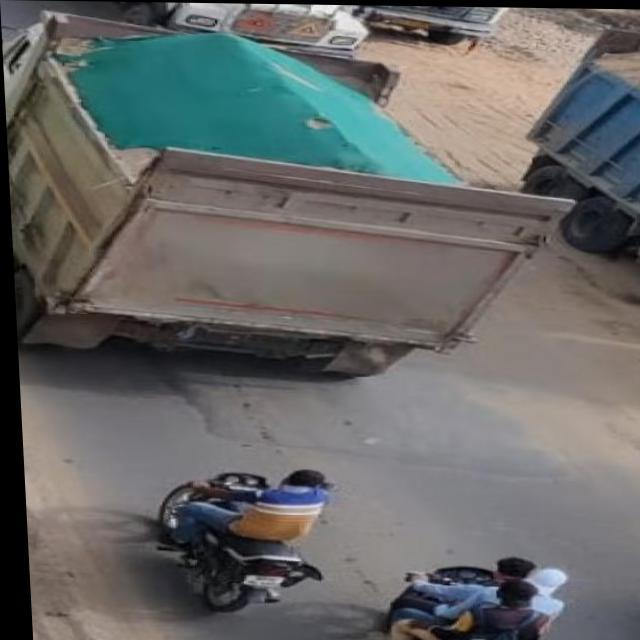covered: (0, 7, 487, 374)
uncovered: (534, 7, 640, 162)
